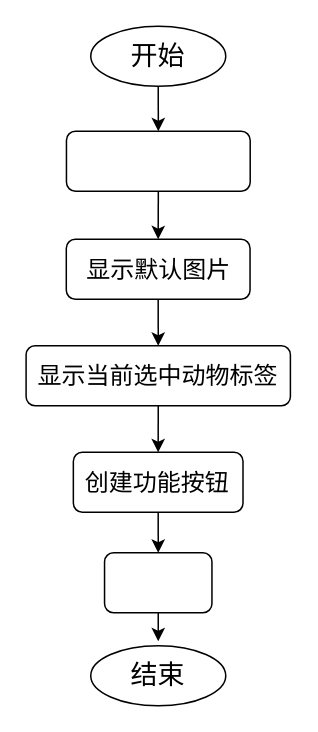
This 318x732 diagram has some shape labels left out. Each missing label, with the box of its shape:
创建单选按钮组: (65, 130, 250, 191)
用户交互: (103, 551, 212, 613)
